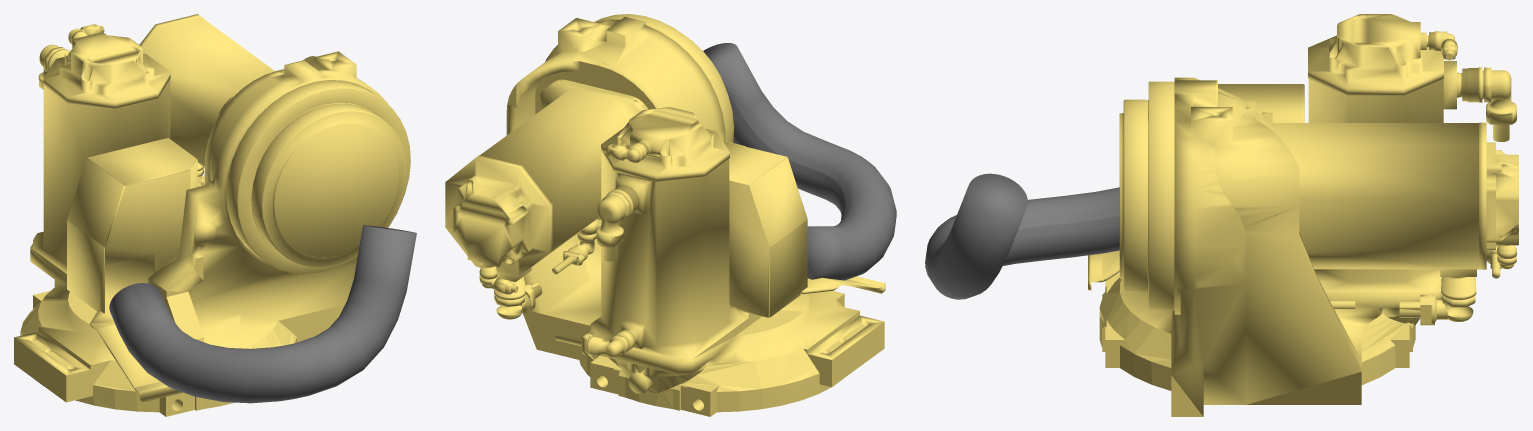
3 views of the same model, side by side, from view 1: azimuth 30°, elevation 25°; view 2: azimuth 150°, elevation 25°; view 3: azimuth 270°, elevation 25° (orthographic). The views are drawn at different scales.
Visible parts, largest first — view 1: Node_0x7fd4b585cda0.001, Node_0x7fd4b585cda0; view 2: Node_0x7fd4b585cda0.001, Node_0x7fd4b585cda0; view 3: Node_0x7fd4b585cda0.001, Node_0x7fd4b585cda0.
Boxes of the visible parts, x1,y1,x2,y2 form: Node_0x7fd4b585cda0.001: (14, 14, 410, 416); Node_0x7fd4b585cda0: (109, 225, 416, 403); Node_0x7fd4b585cda0.001: (445, 14, 885, 416); Node_0x7fd4b585cda0: (703, 43, 896, 280); Node_0x7fd4b585cda0.001: (1088, 14, 1518, 416); Node_0x7fd4b585cda0: (925, 173, 1119, 299).
Size of the model in its own units: 0.428 by 0.5716 by 0.3344.
